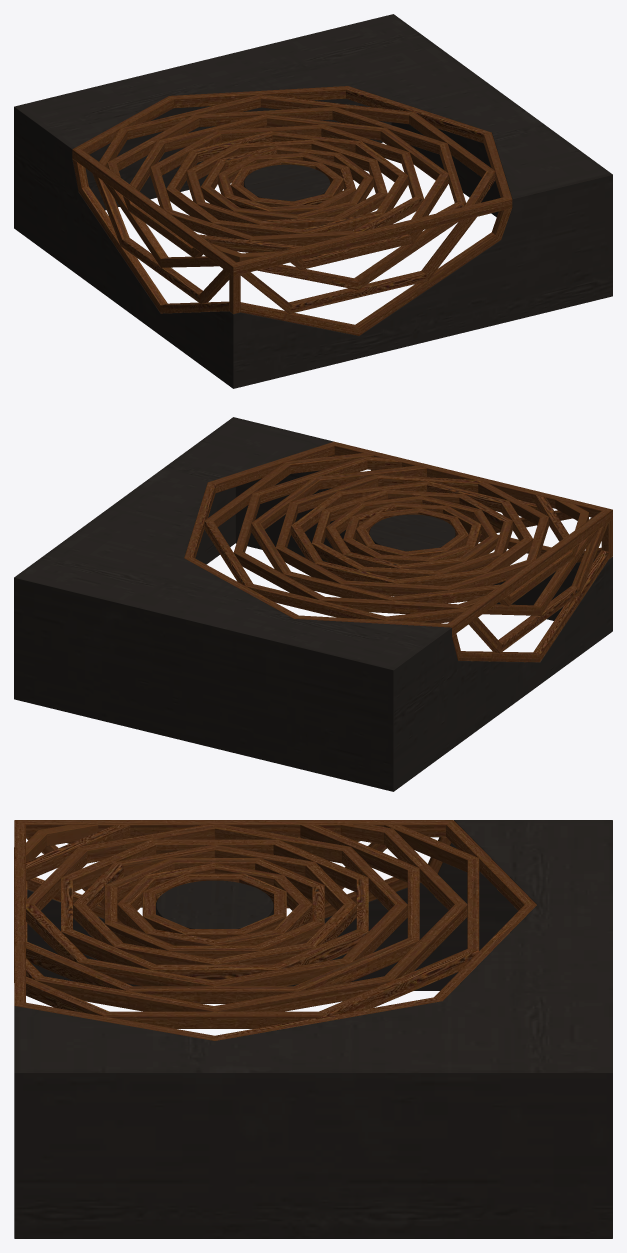
The model's file is modern_coffee_table_02.glb.
3 renders of one model, top to bottom at view 1: azimuth 30°, elevation 25°; view 2: azimuth 150°, elevation 25°; view 3: azimuth 270°, elevation 25°, orthographic. The views are drawn at different scales.
Parts seen in each view (by area): view 1: modern_coffee_table_02; view 2: modern_coffee_table_02; view 3: modern_coffee_table_02.
Part boxes in pixels (bbox=[...]): modern_coffee_table_02: bbox=[14, 14, 612, 388]; modern_coffee_table_02: bbox=[14, 417, 612, 791]; modern_coffee_table_02: bbox=[14, 820, 612, 1238].
Size of the model in its own units: 1.2 by 0.3692 by 1.2.
Materials: 2 (2 with a texture image).
